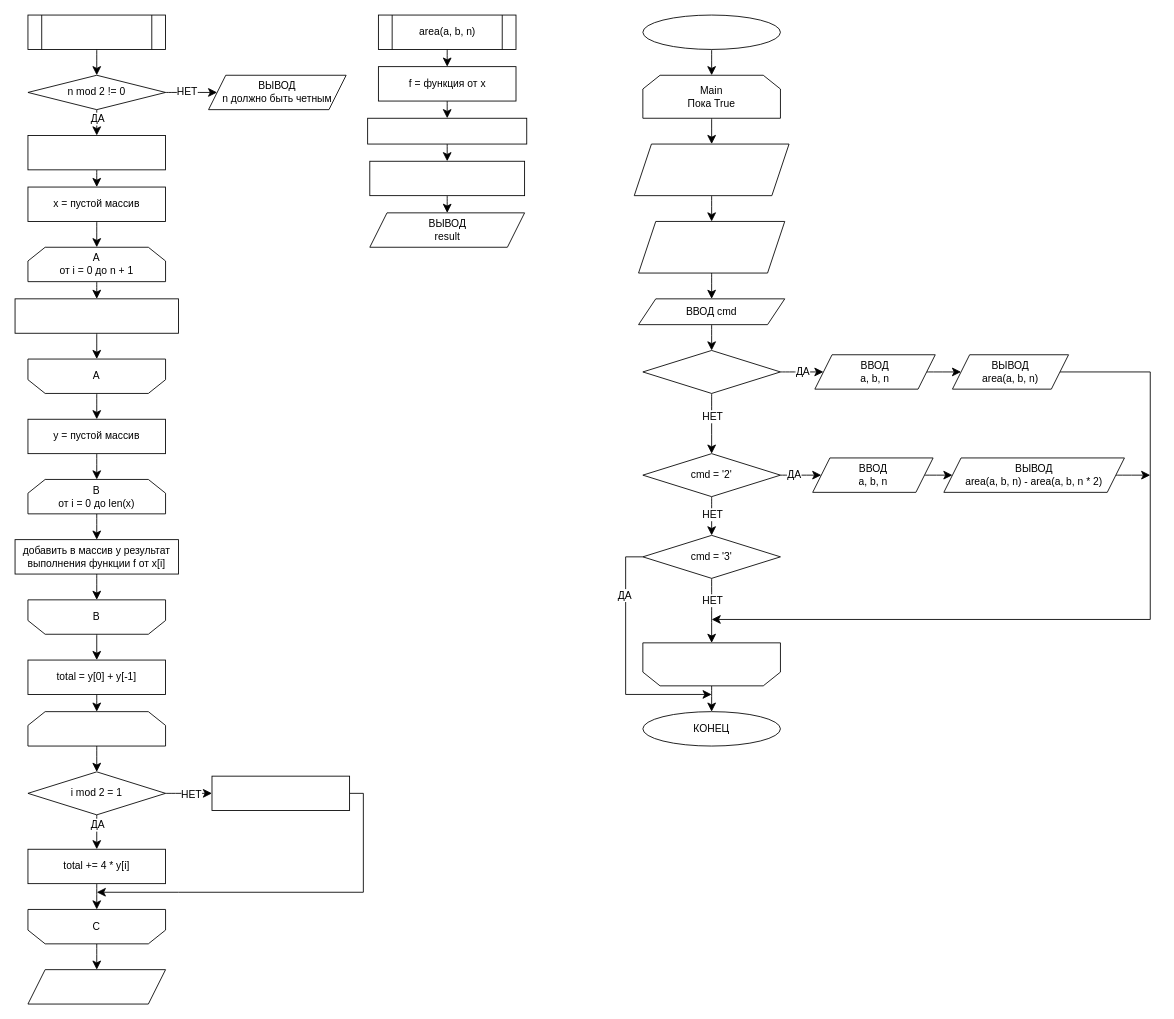
This 1174x1019 diagram has some shape labels left out. Each missing label, with the box of its shape:
C от i = 1 до n: (27, 711, 166, 746)
cmd = '1': (642, 350, 780, 393)
f = max(2 * x**3 - x**2 + x + 2, 0): (367, 117, 527, 144)
h = (b - a) / n: (27, 135, 166, 170)
Main: (642, 642, 780, 686)
result = simpson(f, a, b, n): (369, 160, 525, 196)
simpson(f, a, b, n): (27, 14, 166, 49)
total += 2 * y[i]: (211, 775, 350, 811)
ВЫВОД "1 - Вычислить площадь 2 - Оценивать погрешность 3 - Выход": (633, 143, 789, 196)
ВЫВОД "Выберите пункт: ": (638, 221, 785, 273)
ВЫВОД (h / 3) * total: (27, 969, 166, 1004)
добавить в массив x (a + i * h): (14, 298, 178, 333)
НАЧАЛО: (642, 14, 780, 49)
